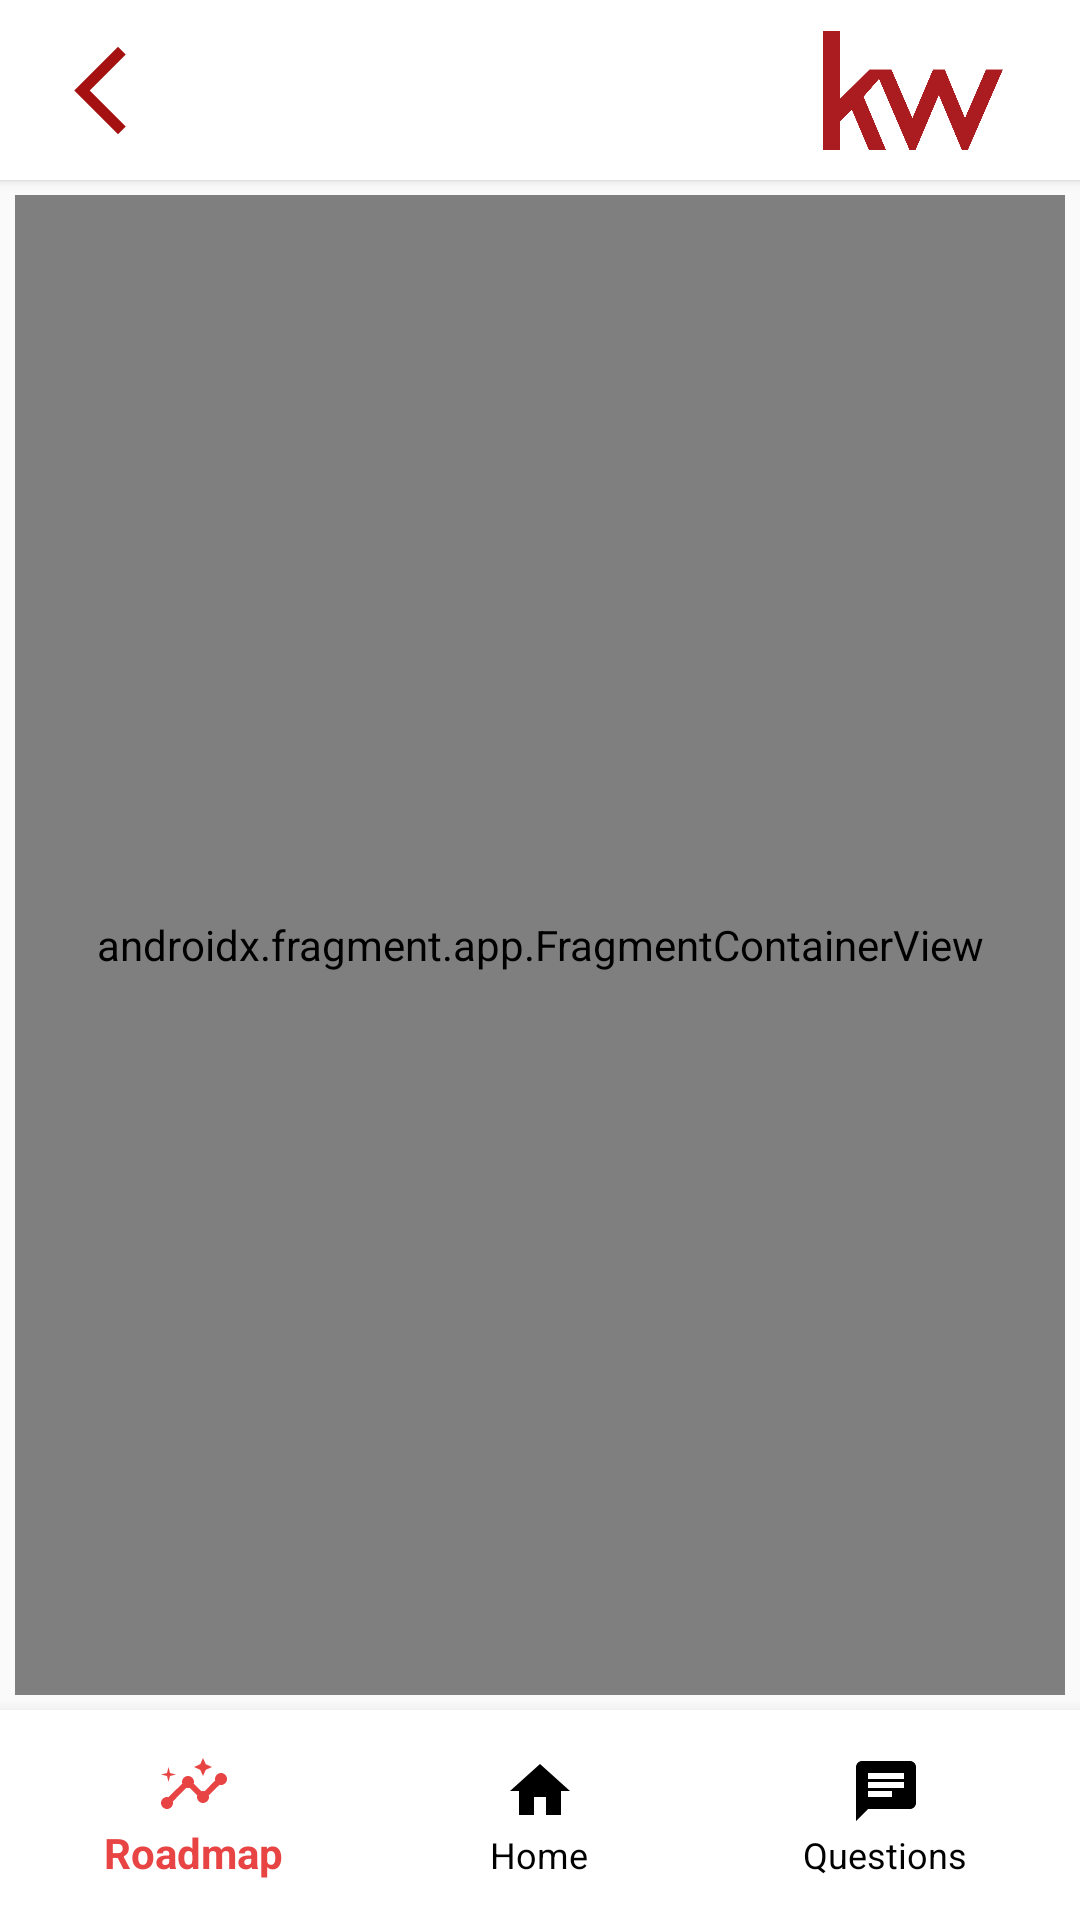

Point at icon controls on the screen. Image size 1080*1920, points as [x,y].
backv: [100,90]
